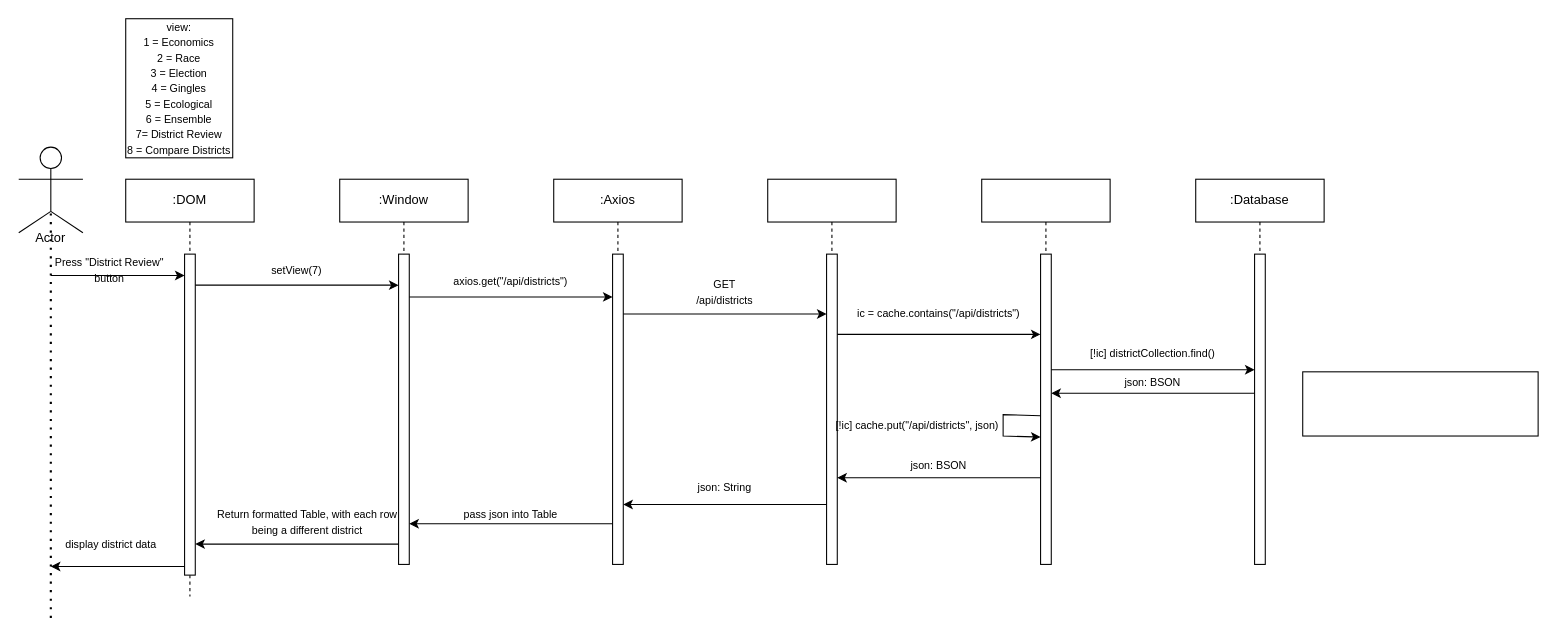
This 1557x639 diagram has some shape labels left out. The box of each missing label's shape, as (x1, y1, x2, y2) in pixels:
:Cache: (981, 178, 1110, 564)
:Server: (767, 178, 896, 564)
BSON is the data type Mongo uses to store date for quick retrieval: (1302, 371, 1538, 436)
